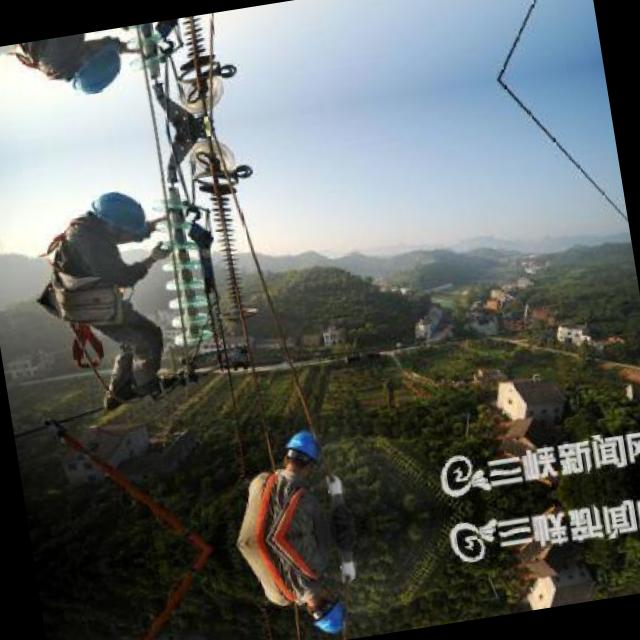helmet: (78, 183, 152, 248), (54, 34, 128, 99), (280, 427, 324, 478), (305, 586, 349, 637)
